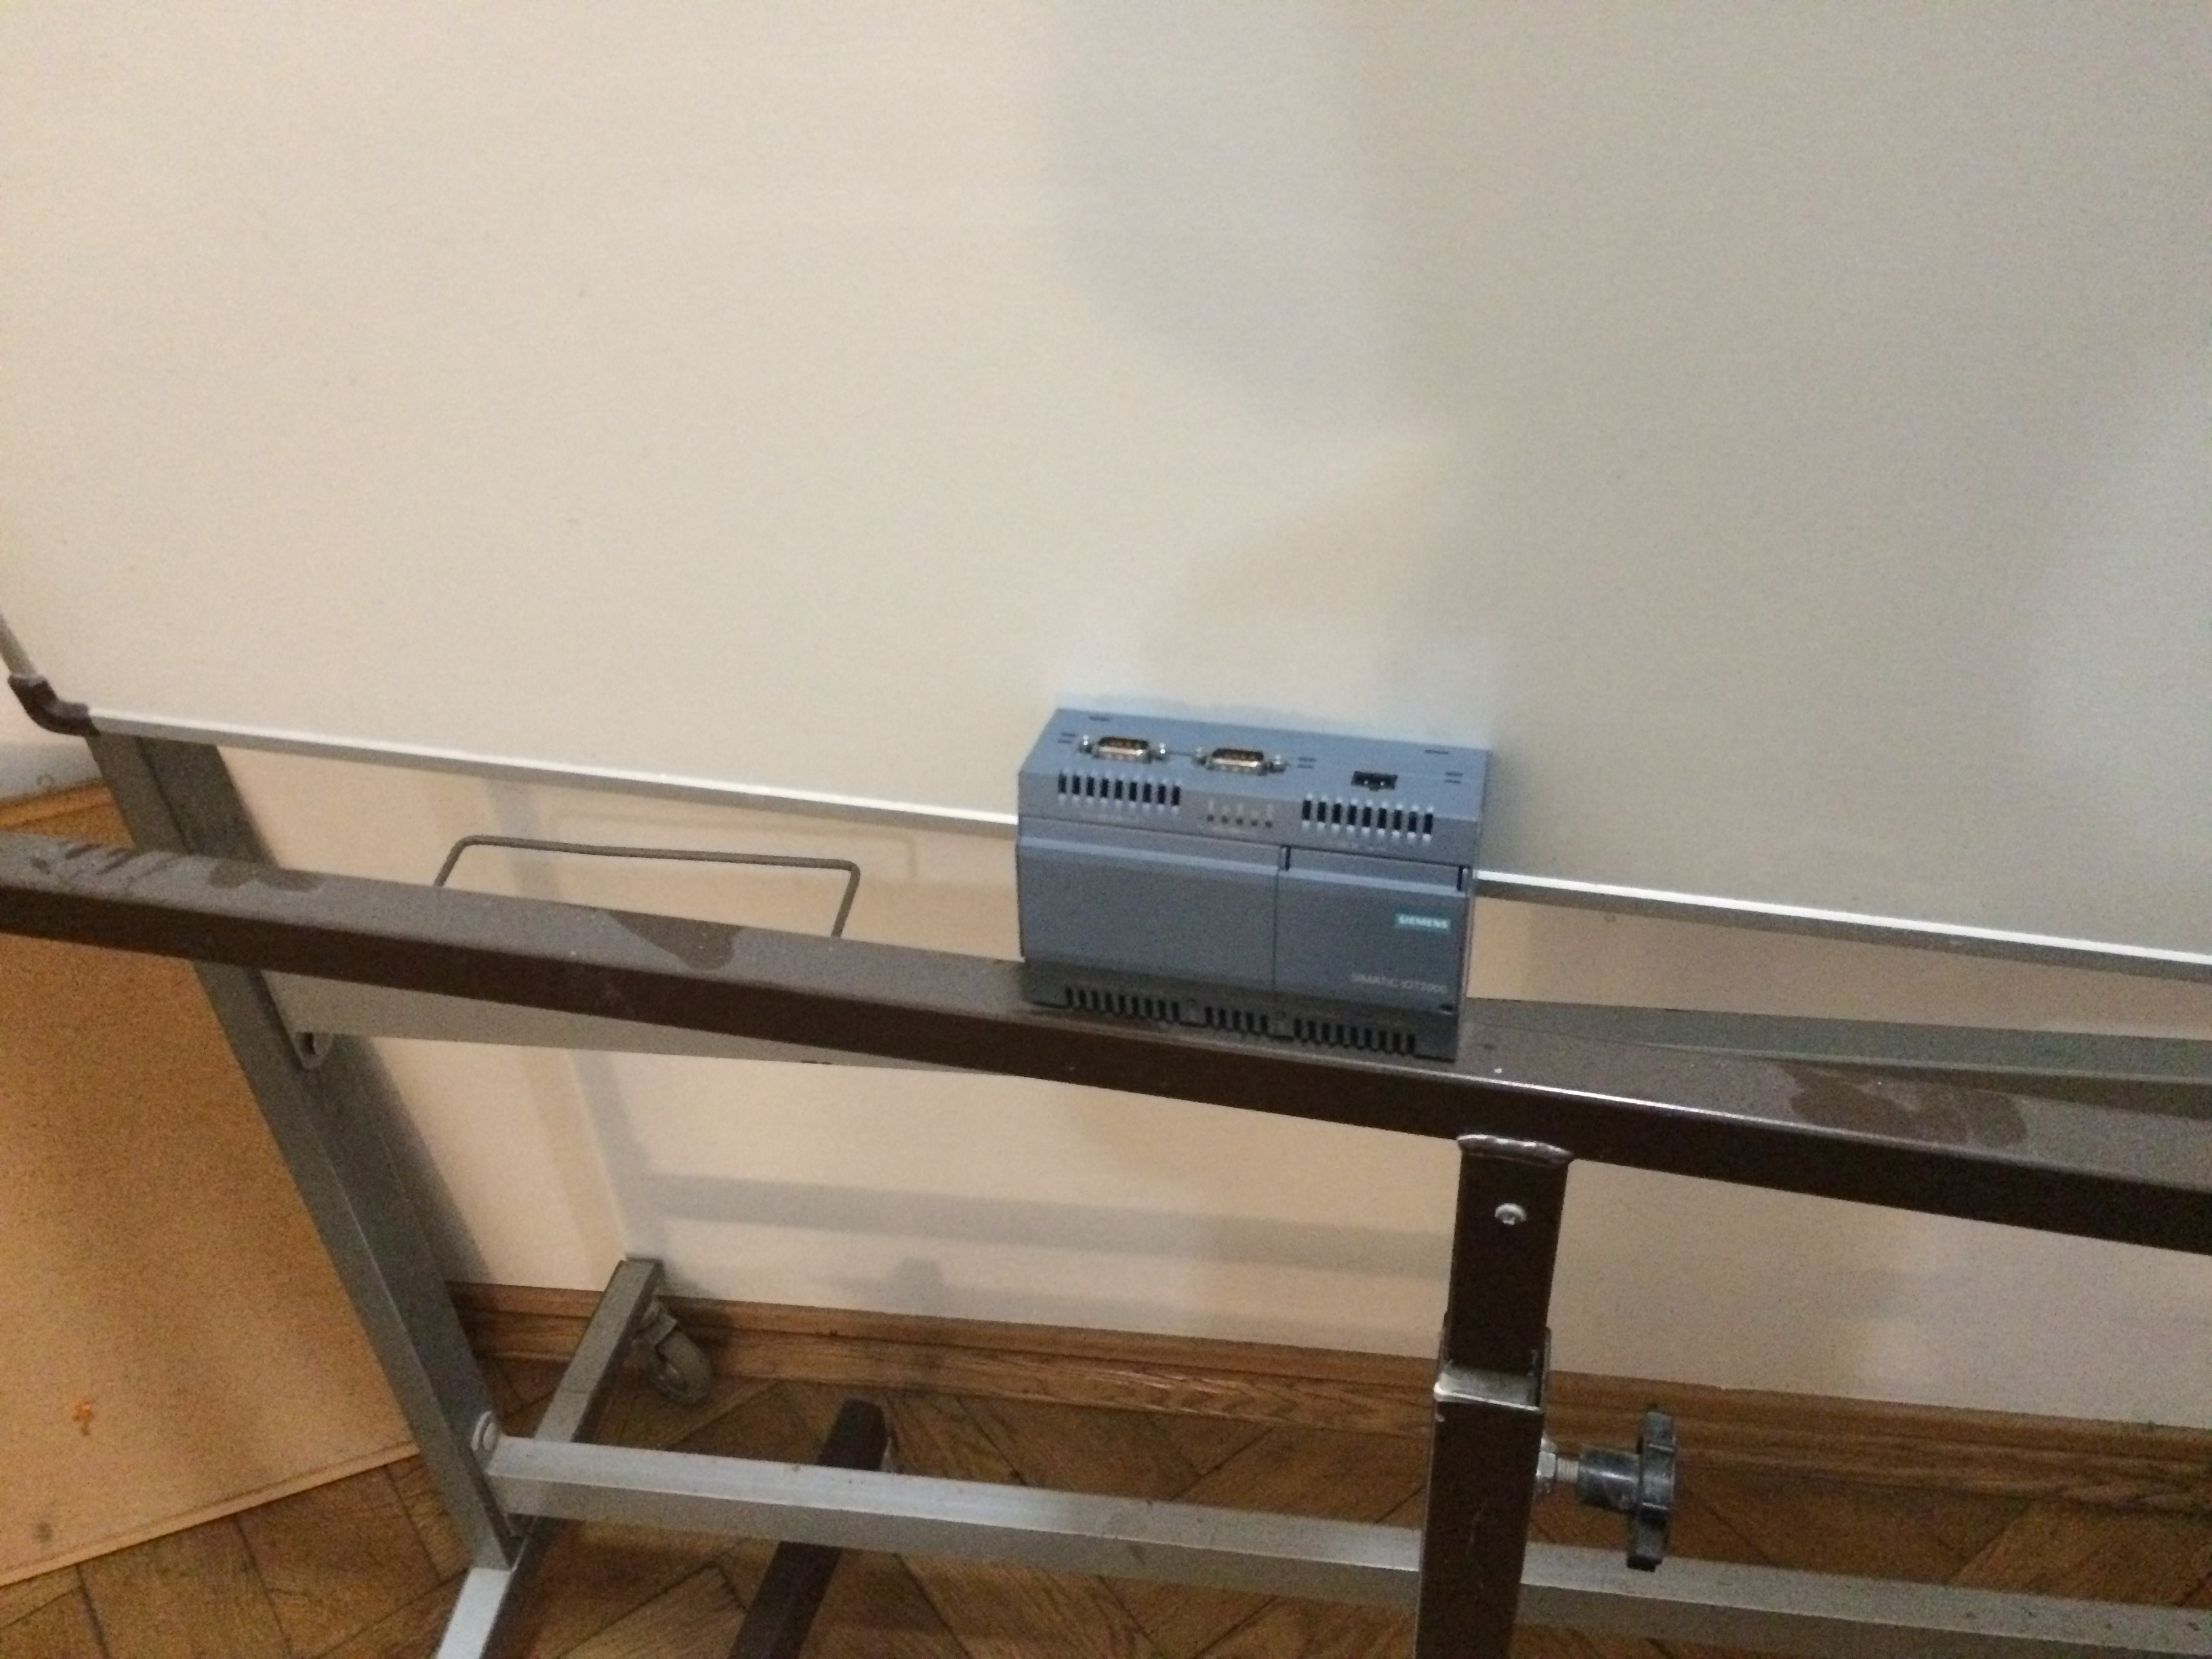iot2000: (1014, 701, 1494, 1068)
